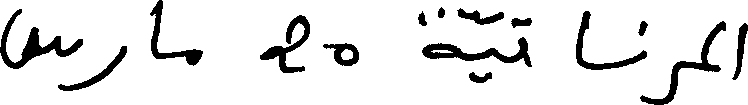0: (332, 41, 359, 66)
2: (261, 13, 309, 73)
ا: (572, 8, 588, 68), (149, 0, 164, 60), (732, 20, 746, 80)
ة: (421, 4, 459, 59)
ر: (647, 22, 681, 103), (79, 37, 126, 90)
س: (0, 7, 82, 92)
ق: (515, 16, 527, 67)
ل: (704, 18, 724, 56)
م: (692, 61, 721, 74), (185, 46, 201, 65)
ن: (618, 18, 648, 75)
ي: (467, 41, 498, 83)
